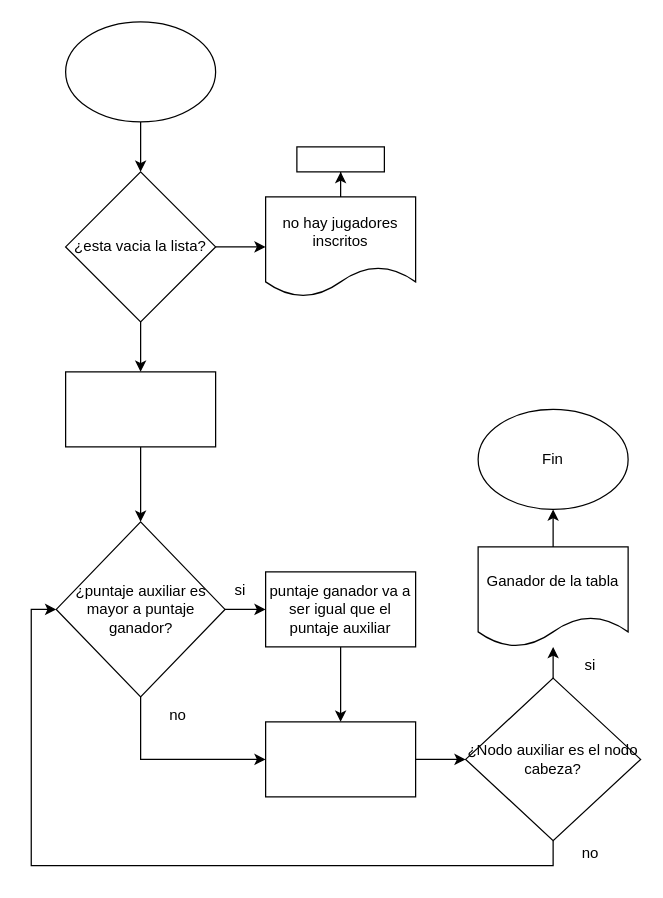
The diagram is 663 pixels wide and 898 high, and some of its shapes have lost their labels. The centre of each missing label's shape, as x and y in pixels:
"Inicializar auxiliar y el ganador como primer nodo" belongs at [140,409].
"INICIO" belongs at [140,71].
"nodo auxiliar se va a mover al siguiente nodo" belongs at [340,759].
"return" belongs at [340,159].
